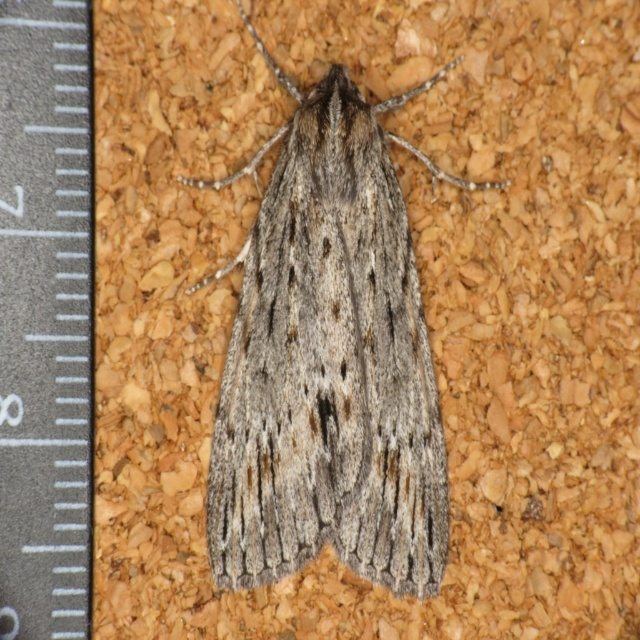Moths and butterflies: (176, 0, 514, 597)
